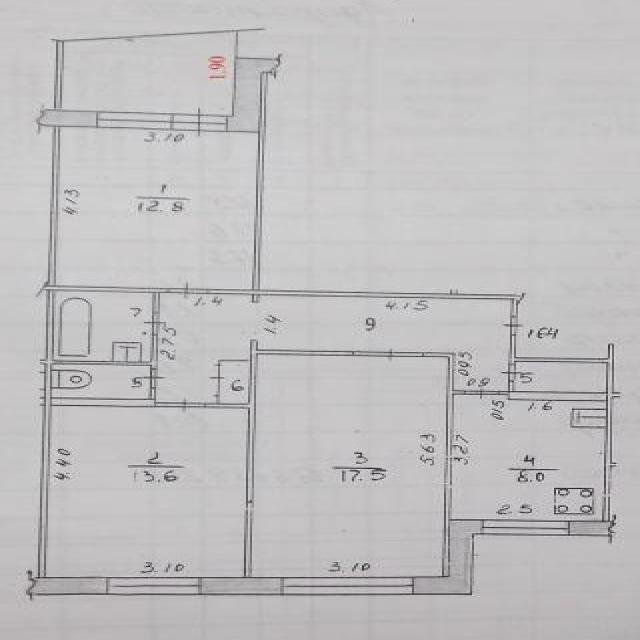Bathrooms: (54, 291, 149, 360), (53, 365, 150, 398)
Corridors: (156, 294, 509, 402), (63, 31, 236, 113), (517, 363, 606, 391), (222, 361, 248, 403)
Doors: (171, 106, 227, 139), (354, 347, 424, 363), (156, 395, 206, 414), (168, 280, 211, 301), (139, 311, 169, 335), (205, 365, 228, 396), (134, 369, 168, 389), (464, 385, 499, 400), (497, 364, 525, 382), (501, 316, 525, 336)
LBwalls: (413, 518, 482, 595), (228, 57, 284, 133), (34, 108, 99, 136), (201, 577, 281, 595), (26, 577, 105, 595), (509, 391, 609, 402), (49, 397, 156, 407), (567, 520, 616, 536)
Offices: (254, 356, 447, 577), (47, 407, 248, 578), (56, 128, 257, 289), (452, 396, 606, 519)
Walls: (210, 73, 528, 317), (37, 127, 169, 578), (205, 339, 354, 578), (508, 336, 624, 519), (424, 352, 465, 577), (55, 41, 62, 109), (500, 391, 509, 396), (509, 382, 514, 390)
Windows: (280, 577, 414, 595), (107, 577, 201, 595), (97, 111, 173, 130), (481, 519, 568, 535)
